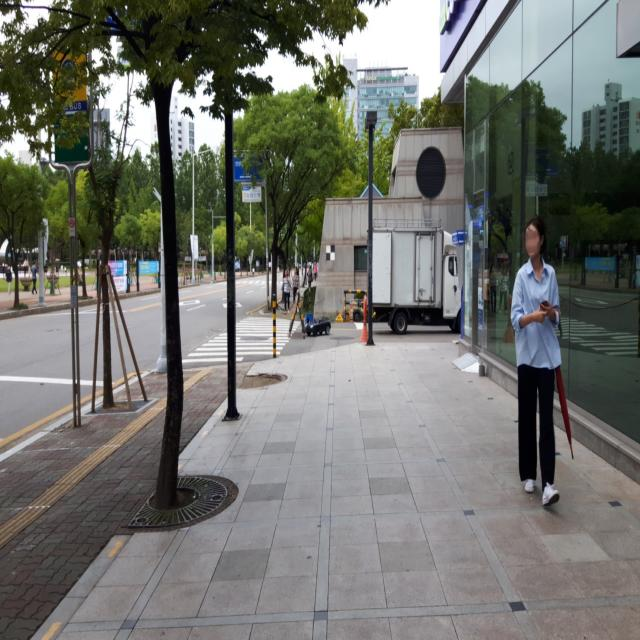횡단보도: (181, 316, 302, 363)
